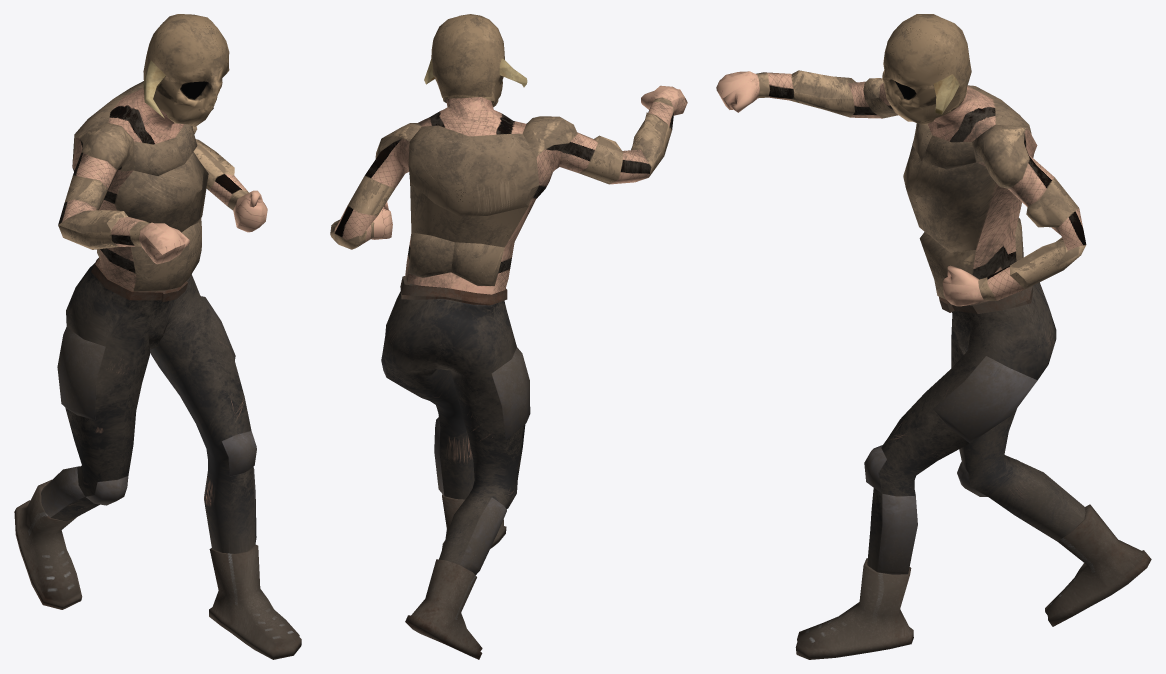
File: Anim_ataque_d1_npc1.0025.obj
The picture shows the model from 3 angles, left to right: view 1: azimuth 30°, elevation 25°; view 2: azimuth 150°, elevation 25°; view 3: azimuth 270°, elevation 25°; orthographic projection. The views are drawn at different scales.
Visible parts, largest first — view 1: NPC2; view 2: NPC2; view 3: NPC2.
Boxes of the visible parts, bbox=[...] form: NPC2: bbox=[14, 14, 301, 659]; NPC2: bbox=[330, 14, 687, 659]; NPC2: bbox=[716, 14, 1151, 659].
Size of the model in its own units: 3.95 by 9.13 by 5.66.
